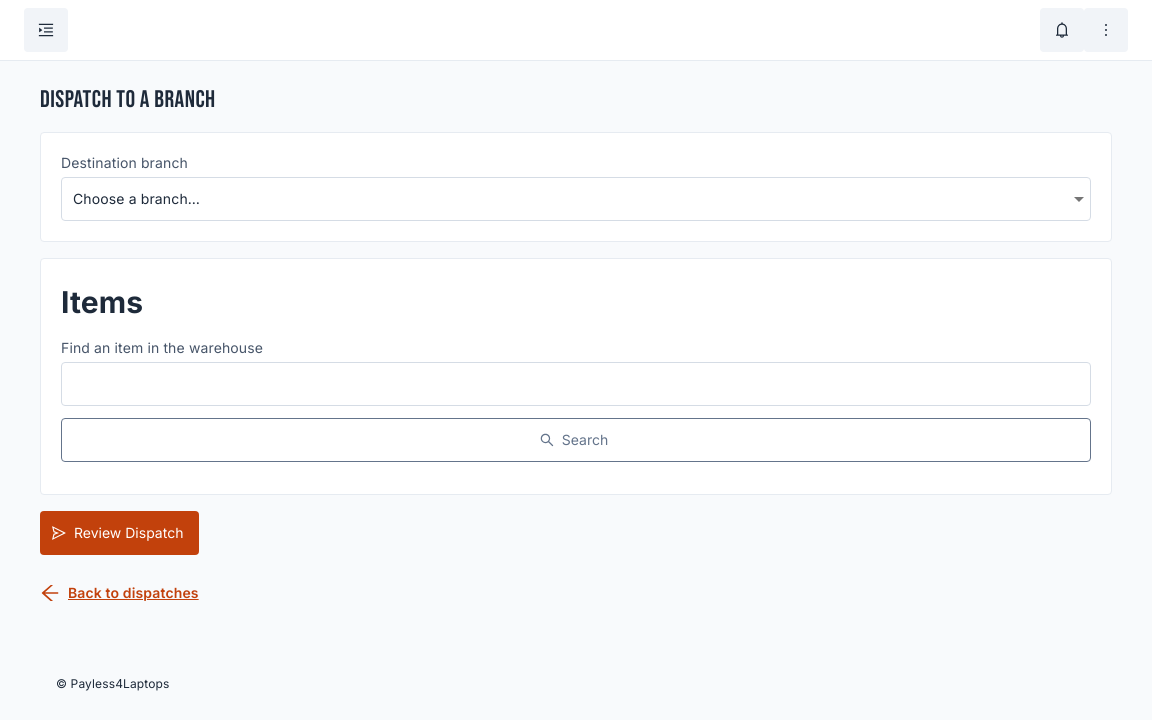
it: new dispatch (F5.2) › asks for a branch and a line first
Expected: the dropdown labelled "Destination branch" is shown, [61, 177, 1091, 221]
Step 1. Click the button "Review dispatch" → x=120, y=533, box [40, 511, 199, 555]
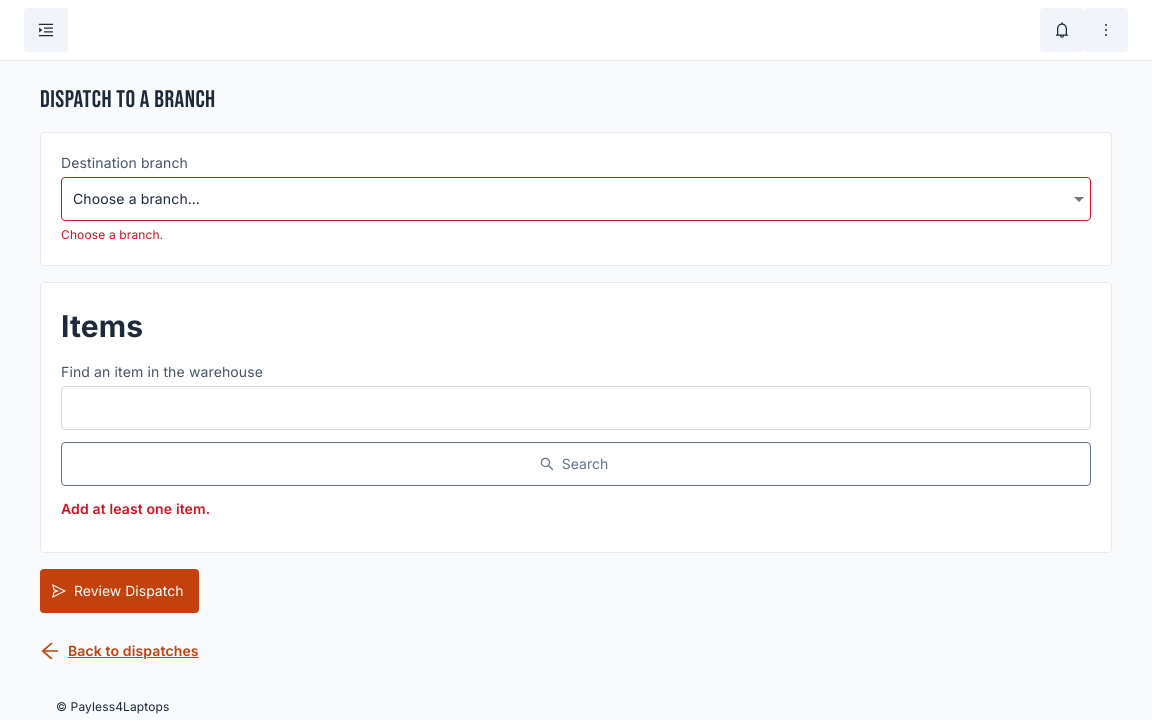
Now the text "Choose a branch." is shown, box [61, 227, 163, 242]
Now the text "Add at least one item." is shown, box [61, 500, 210, 517]
